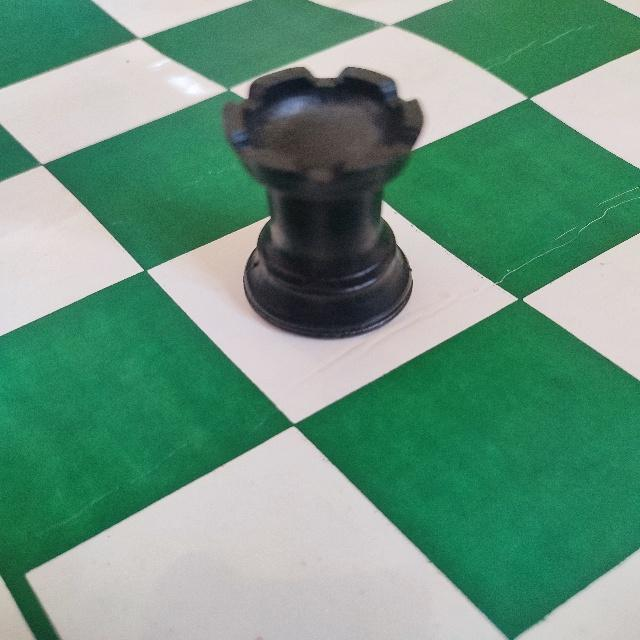Rook: (212, 59, 428, 344)
